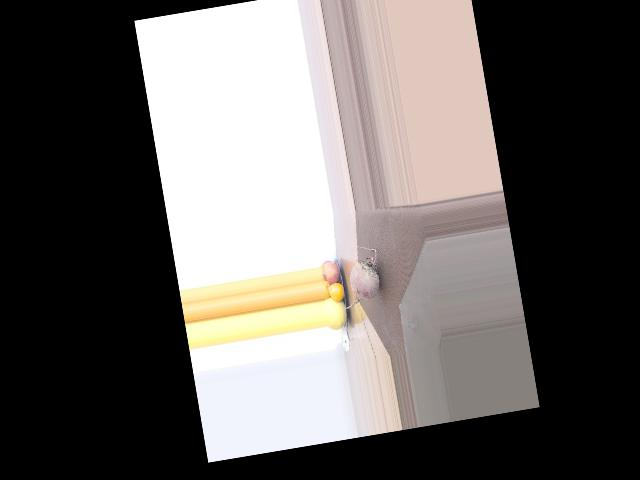beet: (331, 243, 385, 310)
